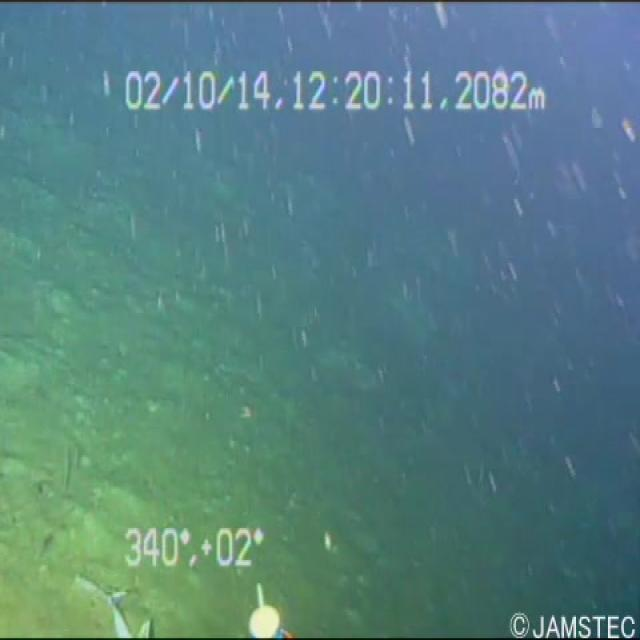plastic: (65, 560, 163, 638)
